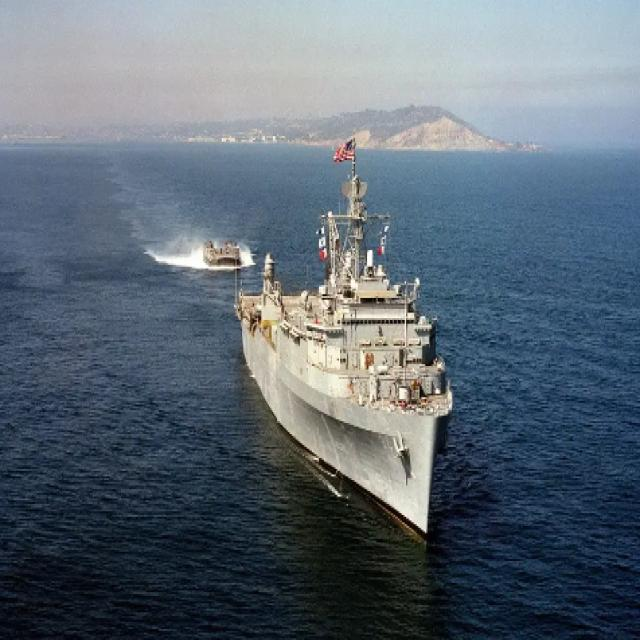navalvessels: (244, 129, 478, 538)
